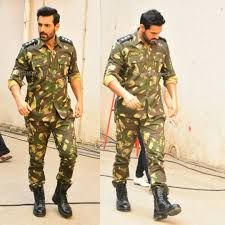uniform: (19, 35, 78, 190), (112, 32, 168, 190)
